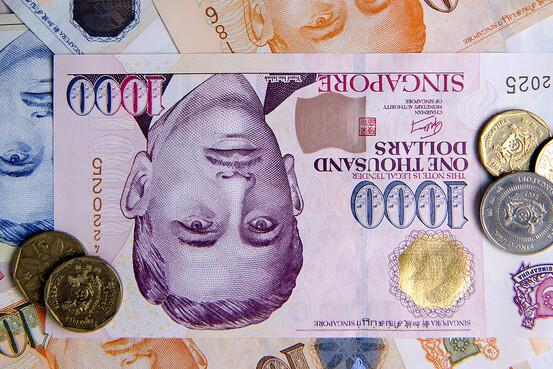1000SingaporeDollar: (55, 56, 553, 336)
